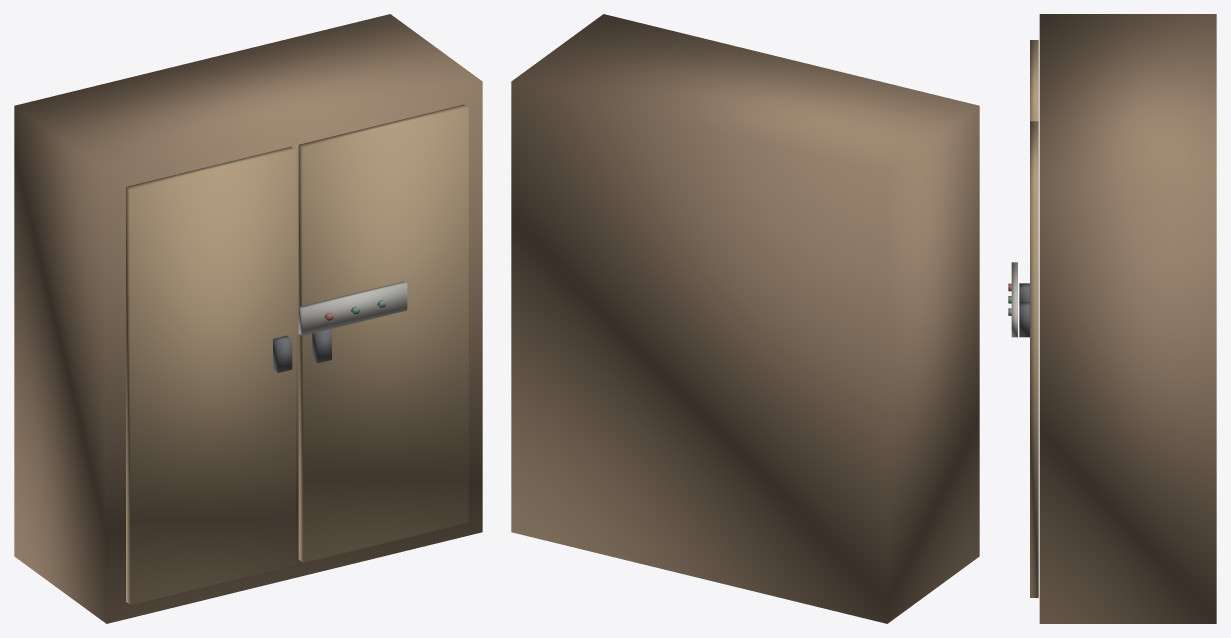
The model's file is map_cabinet__wide.glb.
3 renders of one model, left to right at view 1: azimuth 30°, elevation 25°; view 2: azimuth 150°, elevation 25°; view 3: azimuth 270°, elevation 25°, orthographic. The views are drawn at different scales.
Parts seen in each view (by area): view 1: world; view 2: world; view 3: world.
Boxes of the visible parts, bbox=[...] form: world: bbox=[14, 14, 482, 623]; world: bbox=[511, 14, 979, 623]; world: bbox=[1008, 14, 1216, 623].
Size of the model in its own units: 1.18 by 1.35 by 0.5885.
